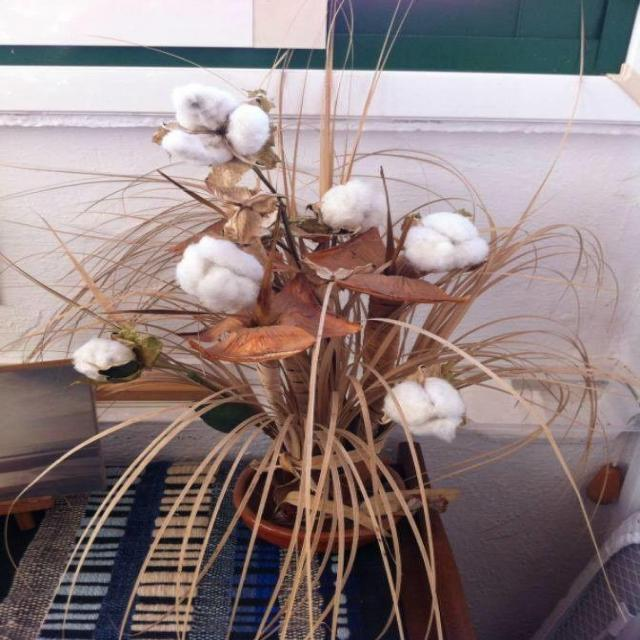Early_blight: (156, 84, 269, 165), (173, 234, 263, 314), (402, 211, 491, 273), (380, 384, 473, 443), (70, 336, 149, 385)
